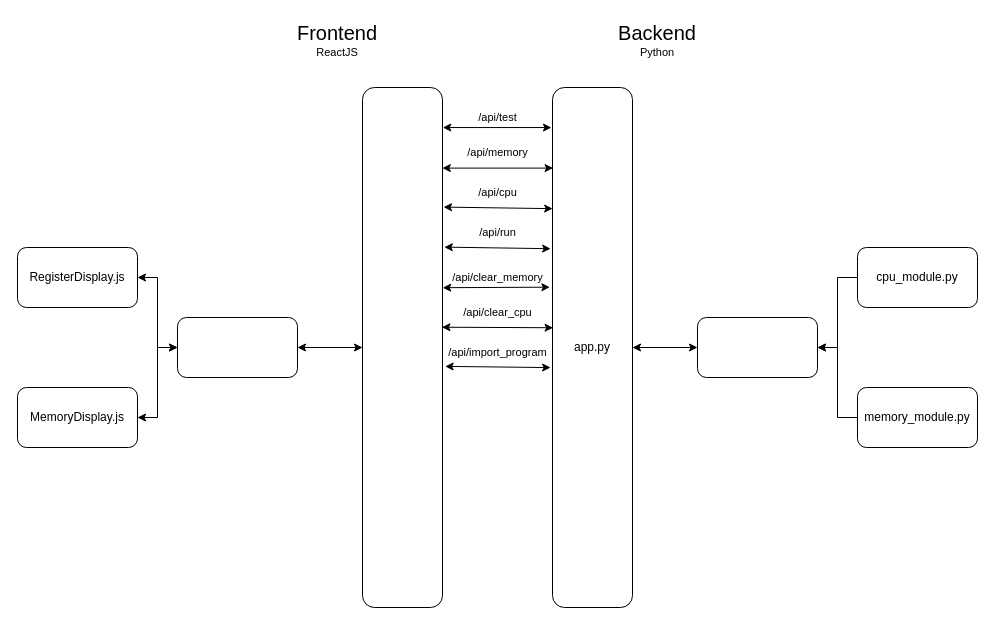
The diagram is 995 pixels wide and 625 high, and some of its shapes have lost their labels. The centre of each missing label's shape, as x and y in pixels:
"App.js" belongs at (402,347).
"Machine.py" belongs at (757,347).
"MachineDisplay.js" belongs at (237,347).
